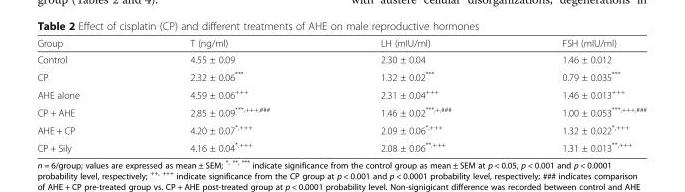table: (36, 36, 646, 153)
table column: (134, 36, 324, 153), (324, 36, 506, 153), (506, 36, 646, 153), (36, 36, 134, 153)
table column header: (36, 36, 646, 50)
table row: (36, 67, 646, 85), (36, 102, 646, 120), (36, 120, 646, 138), (36, 50, 646, 67), (36, 85, 646, 102), (36, 138, 646, 153), (36, 36, 646, 50)
